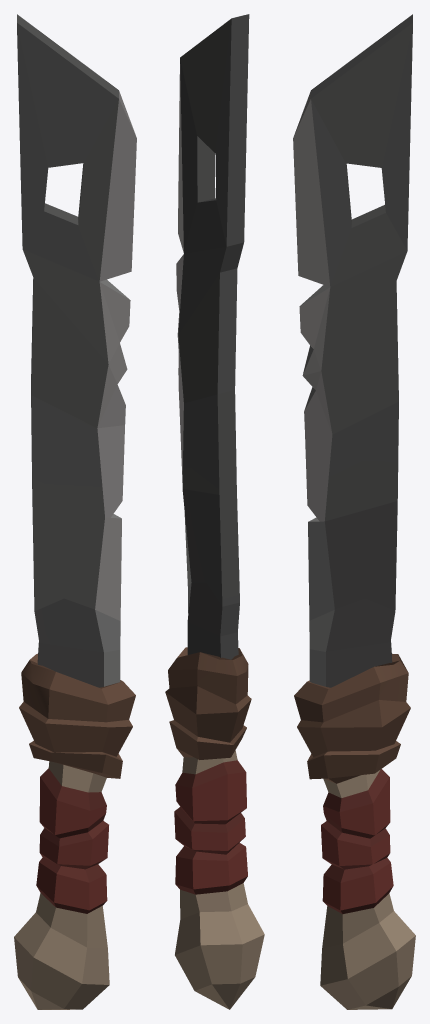
Rendered from SM_Wep_Goblin_Machete_01.glb.
3 renders of one model, left to right at view 1: azimuth 90°, elevation 25°; view 2: azimuth 210°, elevation 25°; view 3: azimuth 270°, elevation 25°, orthographic.
Parts seen in each view (by area): view 1: SM_Wep_Goblin_Machete_01; view 2: SM_Wep_Goblin_Machete_01; view 3: SM_Wep_Goblin_Machete_01.
Part boxes in pixels (x1,y1,x2,y2): SM_Wep_Goblin_Machete_01: [14, 14, 136, 1009]; SM_Wep_Goblin_Machete_01: [165, 14, 264, 1009]; SM_Wep_Goblin_Machete_01: [293, 14, 415, 1009].
Bounding box in the file's own units: 0.000751 × 0.011 × 0.00123.
Materials: 1 (1 with a texture image).
